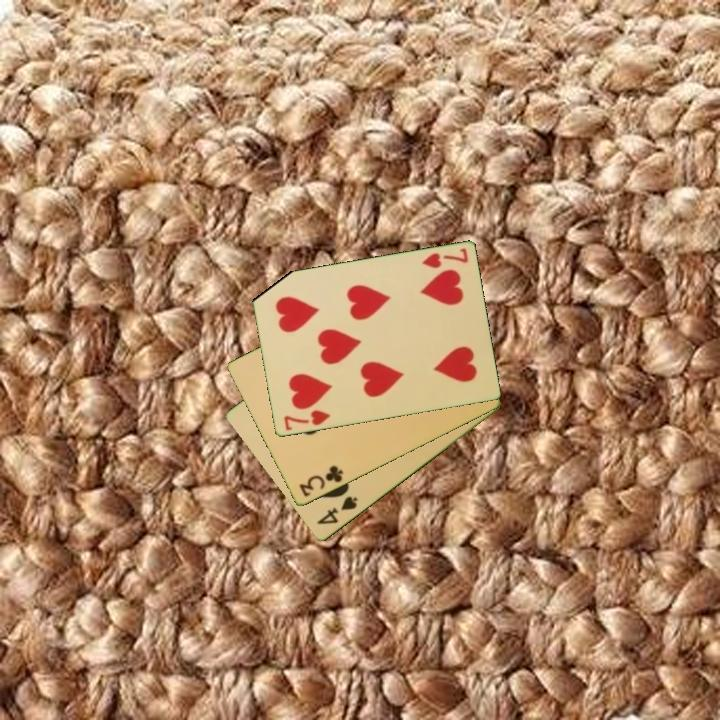3c: (295, 462, 346, 500)
4s: (313, 493, 361, 528)
7h: (280, 407, 333, 434), (418, 245, 471, 271)
